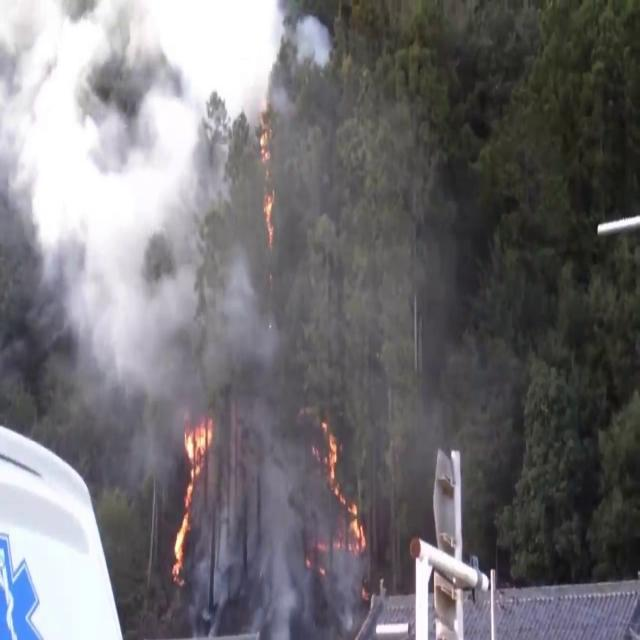Fire: (169, 410, 216, 580), (322, 420, 370, 556)
Smoke: (0, 0, 241, 460), (196, 254, 310, 620)
